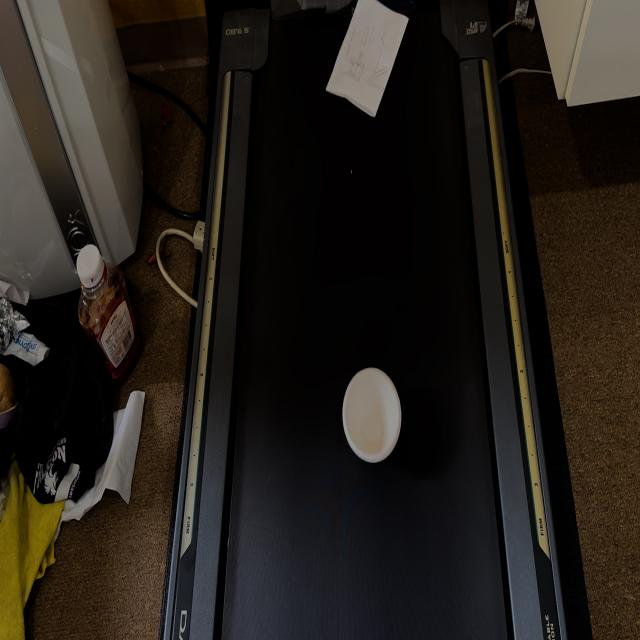Recycle: (322, 2, 412, 124), (341, 365, 404, 468)
